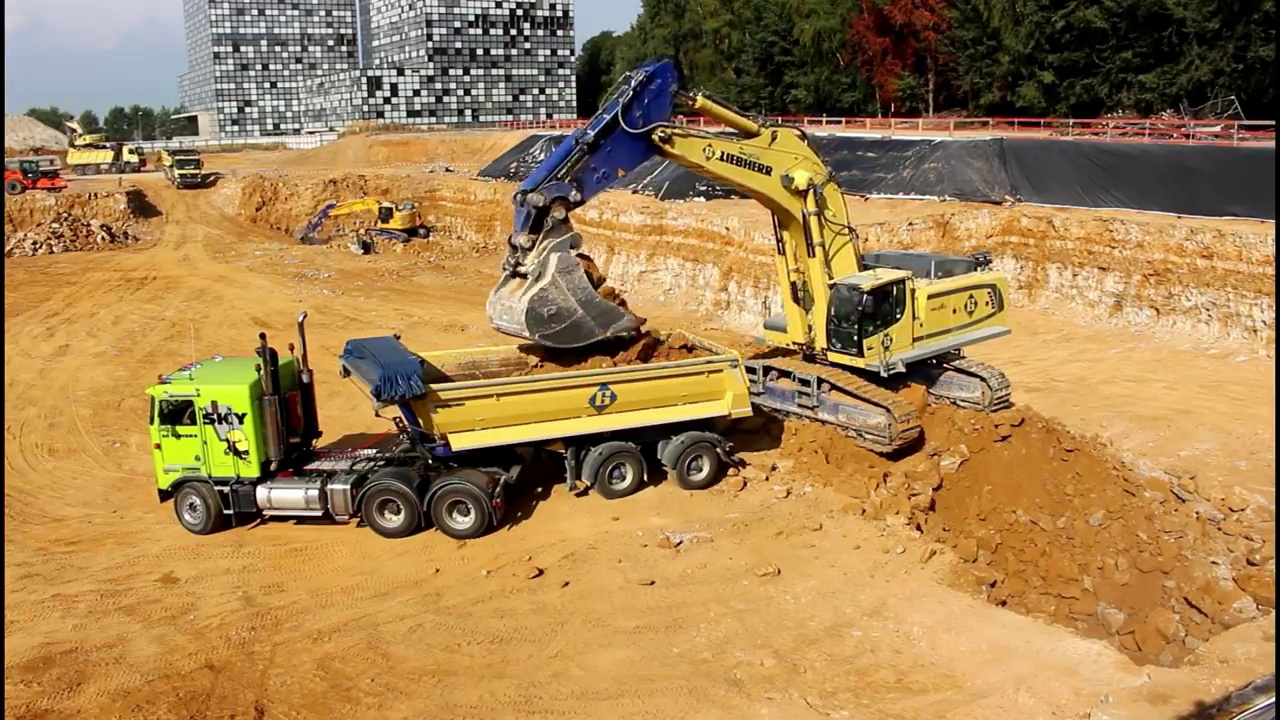compactor: (54, 114, 132, 148), (4, 162, 68, 198)
excavator: (485, 52, 1022, 462), (298, 198, 435, 257)
truck: (140, 309, 763, 544), (67, 141, 146, 175), (157, 144, 211, 193), (2, 150, 66, 183)
